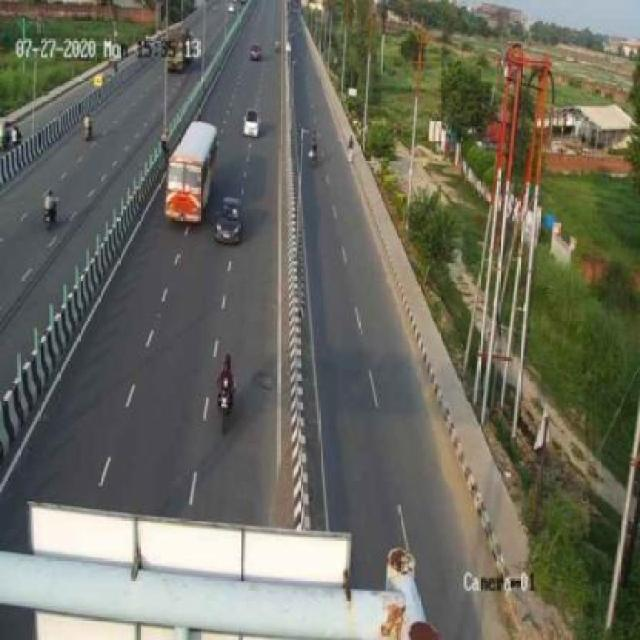car: (214, 194, 257, 246), (239, 106, 263, 143)
